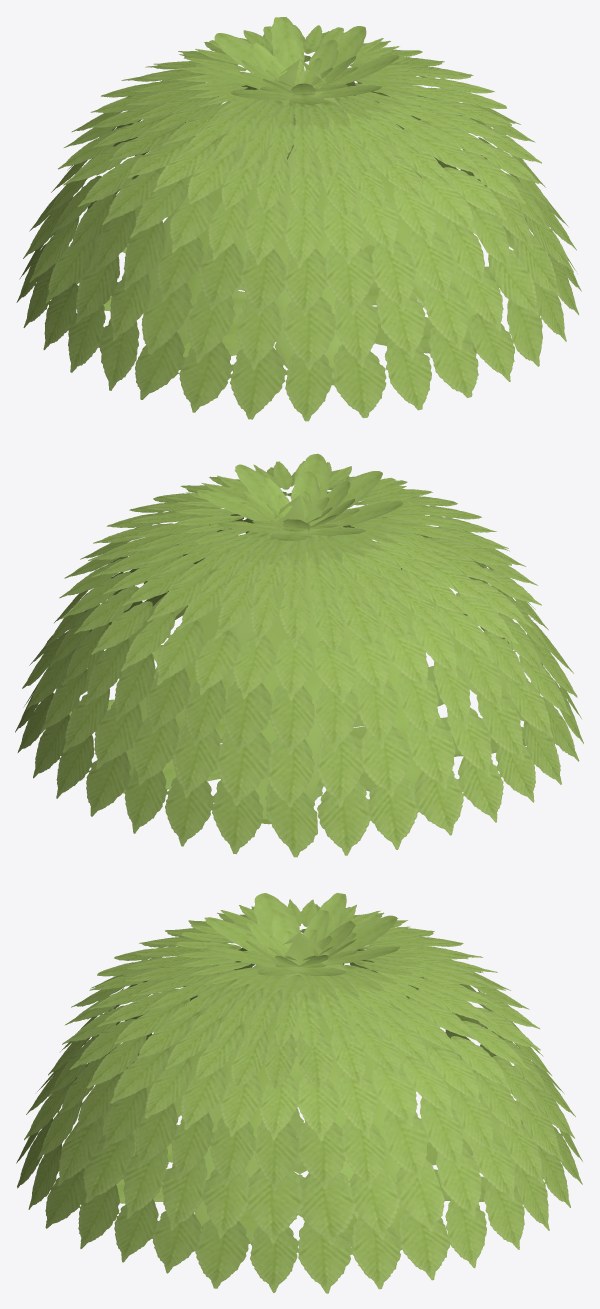
File: low_poly_stylized_bushshrub.glb
The picture shows the model from 3 angles, top to bottom: view 1: azimuth 30°, elevation 25°; view 2: azimuth 150°, elevation 25°; view 3: azimuth 270°, elevation 25°; orthographic projection.
Parts seen in each view (by area): view 1: cloveyBush_03; view 2: cloveyBush_03; view 3: cloveyBush_03.
Boxes of the visible parts, x1,y1,x2,y2 form: cloveyBush_03: [16, 17, 581, 421]; cloveyBush_03: [15, 453, 583, 857]; cloveyBush_03: [16, 893, 582, 1293].
Bounding box in the file's own units: 1.08 × 0.5024 × 1.08.
1 material, 1 textured.
